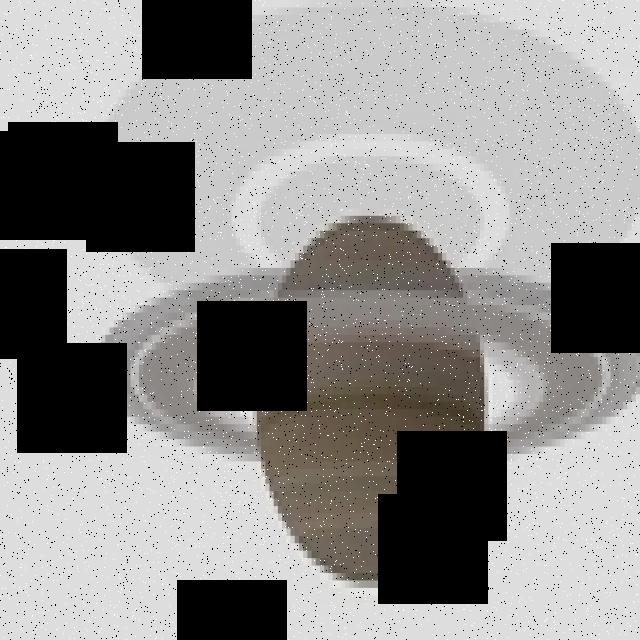Saturn: (88, 215, 640, 596)
